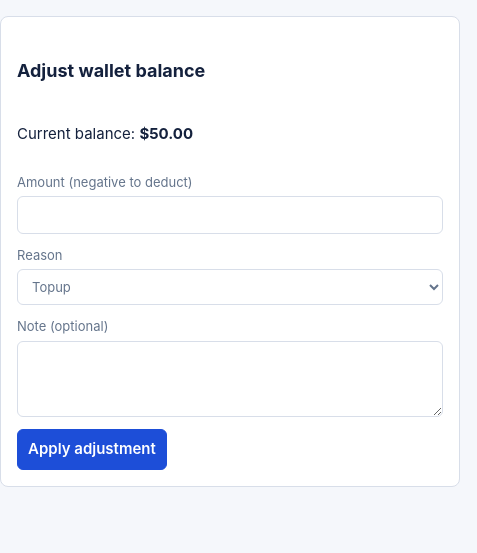
Scenario: WalletAdjustmentForm › shows the server error detail when the mutation fails
Type "20" into the number field labelled "Amount (negative to deduct)".
click(230, 215); type("20")  # box [17, 196, 443, 234]
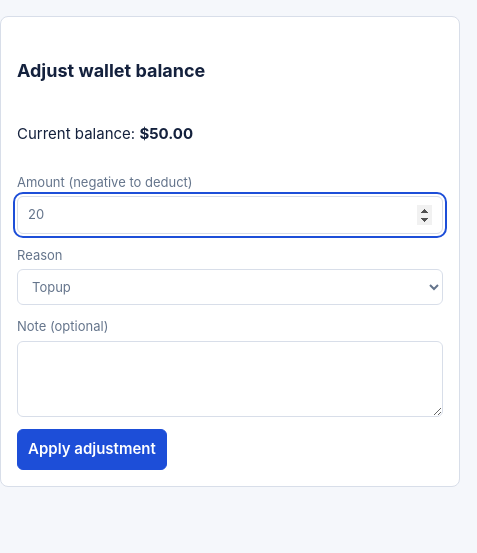
Click the button "Apply adjustment".
click(92, 449)  # box [17, 429, 167, 470]
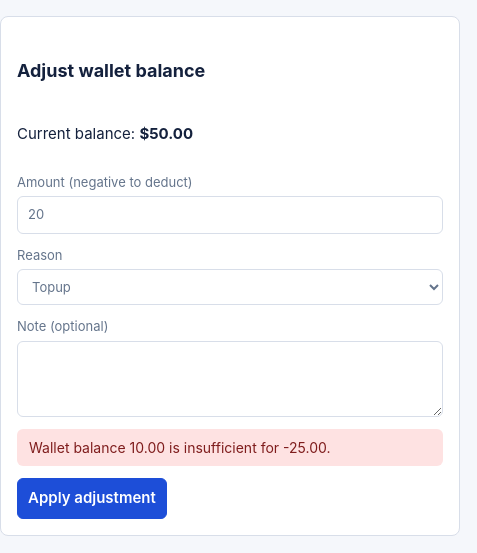
Now the message shows "insufficient", box [29, 439, 330, 456]
